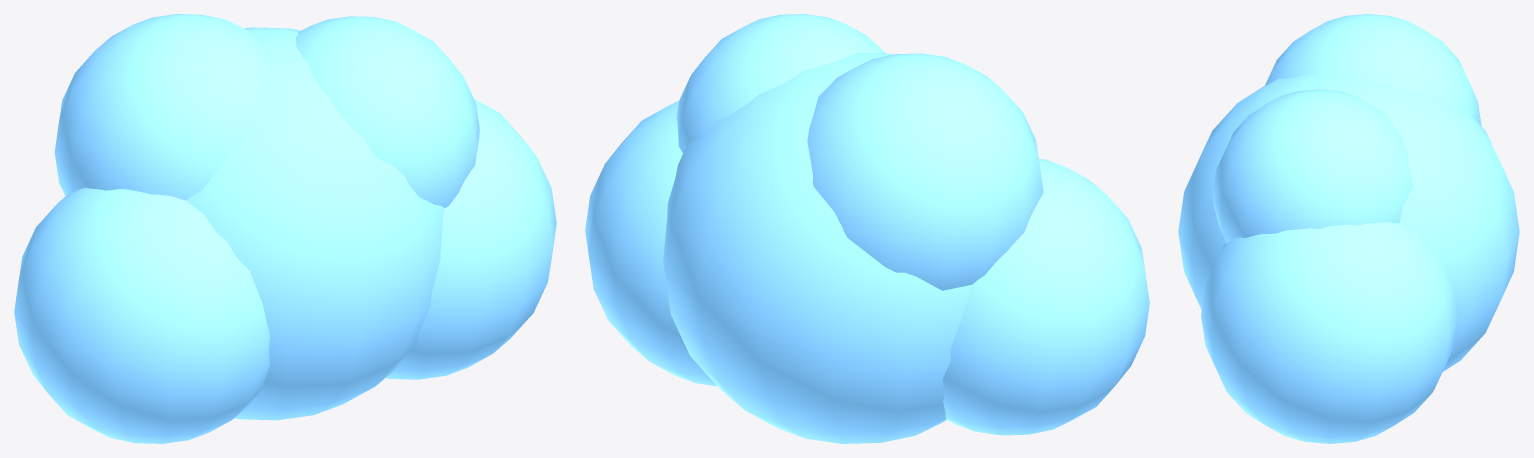
File: cloud.glb
The picture shows the model from 3 angles, left to right: view 1: azimuth 30°, elevation 25°; view 2: azimuth 150°, elevation 25°; view 3: azimuth 270°, elevation 25°; orthographic projection. The views are drawn at different scales.
Visible parts, largest first — view 1: CyberDomeAsset; view 2: CyberDomeAsset; view 3: CyberDomeAsset.
Part boxes in pixels (x1,y1,x2,y2): CyberDomeAsset: (14, 14, 556, 443); CyberDomeAsset: (585, 14, 1149, 443); CyberDomeAsset: (1178, 14, 1519, 443).
Size of the model in its own units: 1.36 by 0.97 by 0.9.
